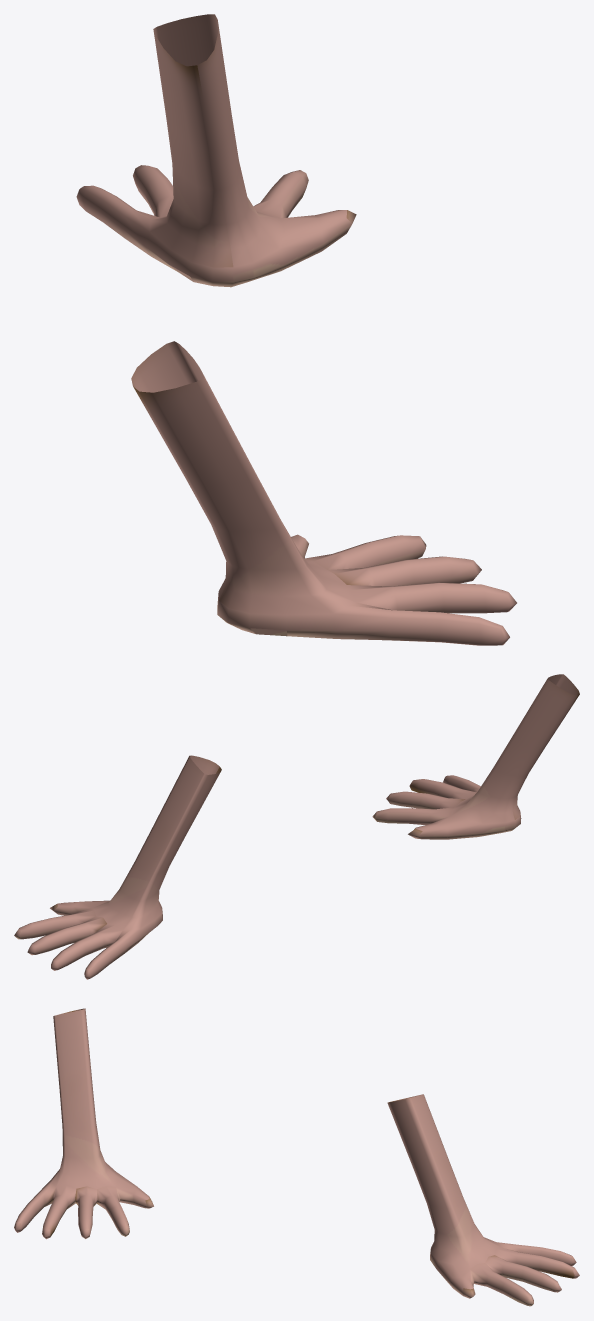
File: legs1.obj
The picture shows the model from 3 angles, top to bottom: view 1: azimuth 30°, elevation 25°; view 2: azimuth 150°, elevation 25°; view 3: azimuth 270°, elevation 25°; orthographic projection. The views are drawn at different scales.
Visible parts, largest first — view 1: patas1; view 2: patas1; view 3: patas1.
Boxes of the visible parts, <box> form: patas1: <box>76,14,516,645</box>; patas1: <box>14,674,579,979</box>; patas1: <box>14,1008,579,1306</box>.
Size of the model in its own units: 0.1435 by 0.0697 by 0.2237.
1 material, 1 textured.
